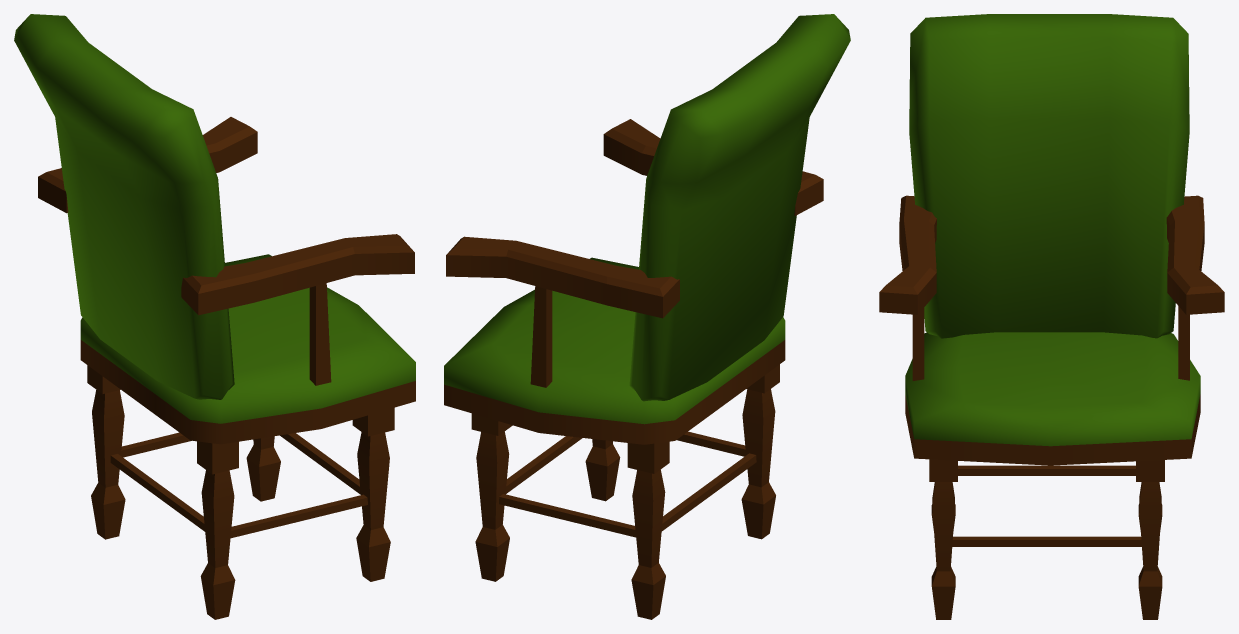
File: Chair-Wooden-Classical_02.fbx
3 renders of one model, left to right at view 1: azimuth 30°, elevation 25°; view 2: azimuth 150°, elevation 25°; view 3: azimuth 270°, elevation 25°, orthographic. The views are drawn at different scales.
Parts seen in each view (by area): view 1: Chair_02; view 2: Chair_02; view 3: Chair_02.
Part boxes in pixels (box(x1,y1,x2,y2)): Chair_02: box(14, 14, 415, 619); Chair_02: box(444, 14, 850, 619); Chair_02: box(879, 14, 1224, 619).
Bounding box in the file's own units: 0.6999 × 1.21 × 0.7633.
